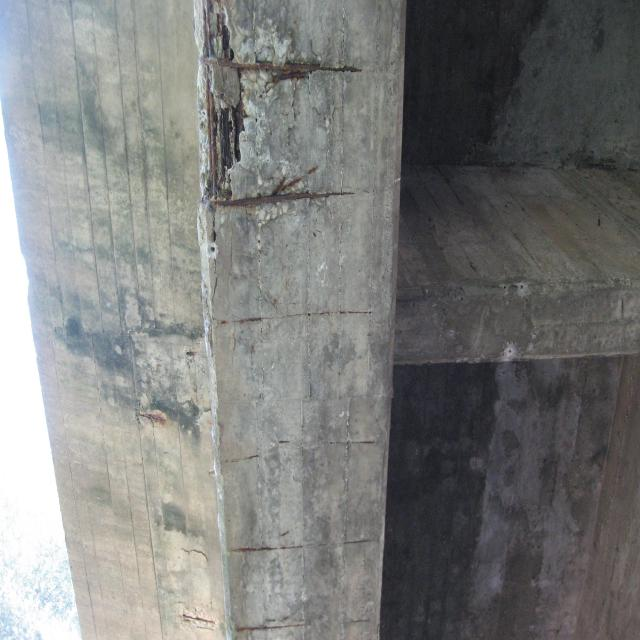corrosion: (194, 6, 360, 211), (212, 277, 380, 366), (218, 532, 319, 553), (235, 614, 311, 640), (210, 445, 274, 468), (178, 604, 221, 633), (135, 406, 172, 428), (184, 344, 197, 358)
